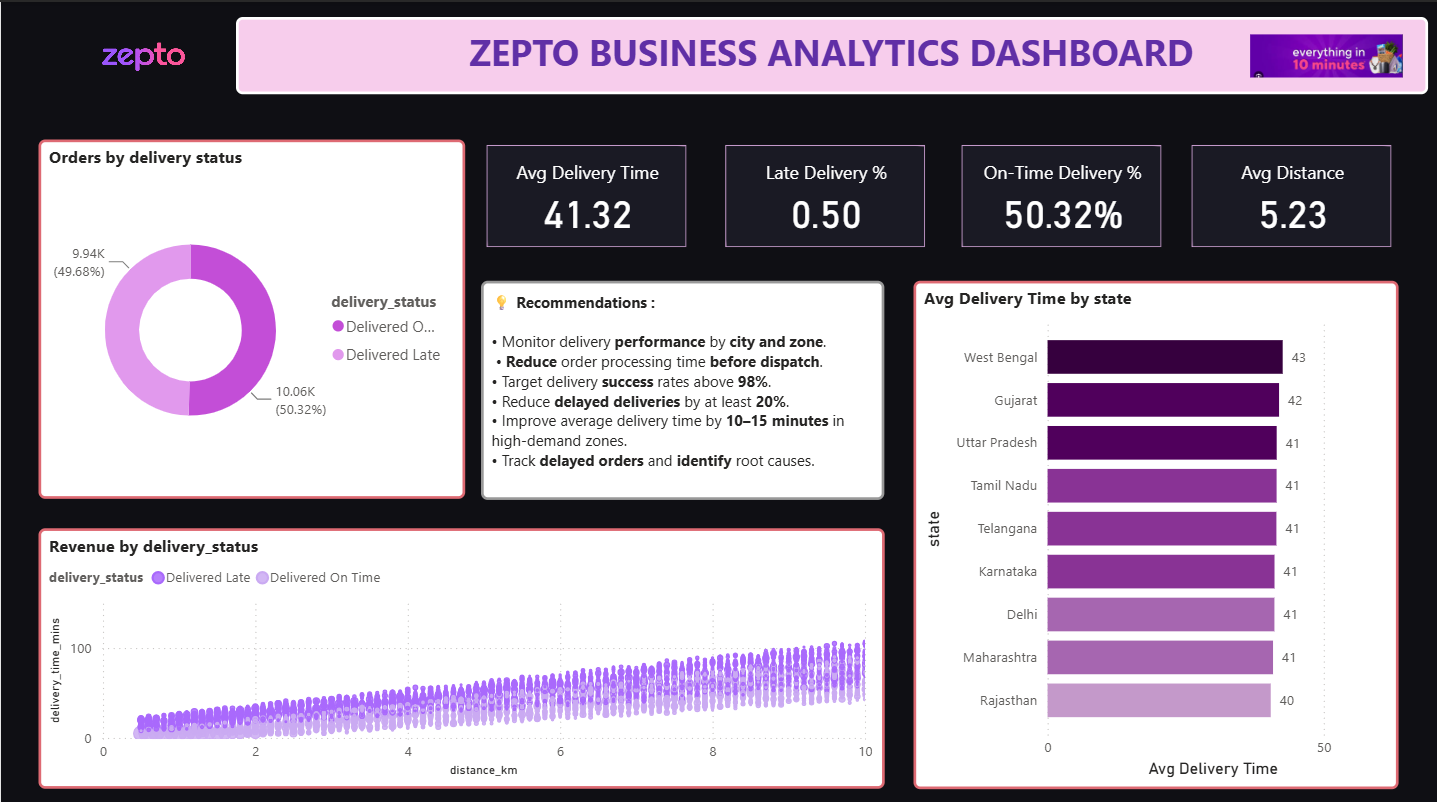

The page's visual inventory and layout, read from the dashboard file:
{"tool":"powerbi","page":{"name":"Delivery Analysis","canvas":[1280,720],"ordinal":4},"visuals":[{"type":"textbox","box":[209.8,13.5,1061.4,68.7],"z":0},{"type":"image","box":[0,0,251,103],"z":1000},{"type":"cardVisual","title":"Revenue","fields":{"Data":["customer_Sheet.Avg Delivery Time"]},"box":[427,122.7,189,101.8],"z":2000},{"type":"cardVisual","title":"Revenue","fields":{"Data":["customer_Sheet.Avg Distance"]},"box":[1055.2,122.7,189,101.8],"z":3000},{"type":"cardVisual","title":"Revenue","fields":{"Data":["customer_Sheet.On-Time Delivery %"]},"box":[850.3,122.7,189,101.8],"z":4000},{"type":"cardVisual","title":"Revenue","fields":{"Data":["customer_Sheet.Late Delivery %"]},"box":[640.5,122.7,189,101.8],"z":5000},{"type":"donutChart","title":"Orders by delivery status","fields":{"Category":["delivery_Sheet.delivery_status"],"Y":["CountNonNull(order_Sheet.order_id)"]},"box":[33.1,122.7,380.4,320.2],"z":6000},{"type":"clusteredBarChart","fields":{"Category":["customer_Sheet.state"],"Y":["customer_Sheet.Avg Delivery Time"]},"box":[812.3,247.9,431.9,452.8],"z":7000},{"type":"scatterChart","title":"Revenue by delivery_status","fields":{"Size":["customer_Sheet.Revenue"],"X":["delivery_Sheet.distance_km"],"Y":["delivery_Sheet.delivery_time_mins"],"Series":["delivery_Sheet.delivery_status"]},"box":[33.1,468.7,753.4,231.9],"z":8000},{"type":"textbox","box":[427,247.9,359.5,195.1],"z":9000},{"type":"image","box":[1108,19.6,146,56.4],"z":10000}]}

Visuals, with their boxes in screenshot pixels (x1, y1, x2, y2), scaled from the page's 1280x720 canvas onto the 1437x802 screenshot:
textbox: 236:15:1427:92
image: 0:0:282:115
"Revenue" cardVisual: 479:137:692:250
"Revenue" cardVisual: 1185:137:1397:250
"Revenue" cardVisual: 955:137:1167:250
"Revenue" cardVisual: 719:137:931:250
"Orders by delivery status" donutChart: 37:137:464:493
clusteredBarChart - customer_Sheet.state x customer_Sheet.Avg Delivery Time: 912:276:1397:781
"Revenue by delivery_status" scatterChart: 37:522:883:780
textbox: 479:276:883:493
image: 1244:22:1408:85
